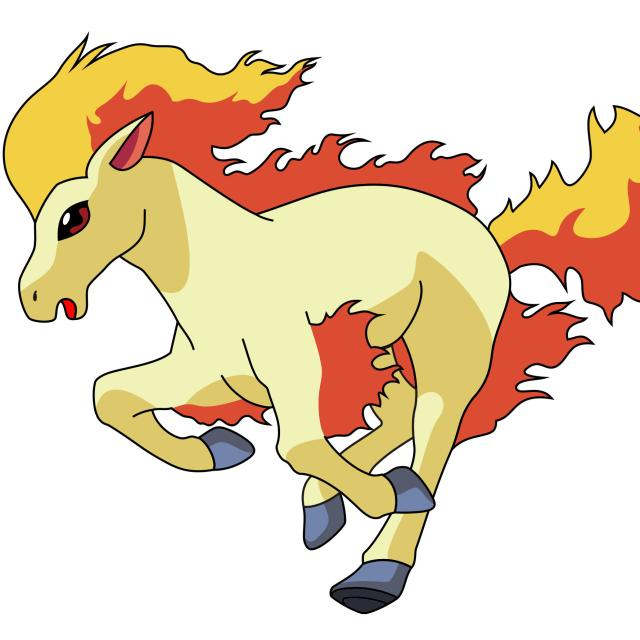Ponyta: (6, 53, 522, 623)
